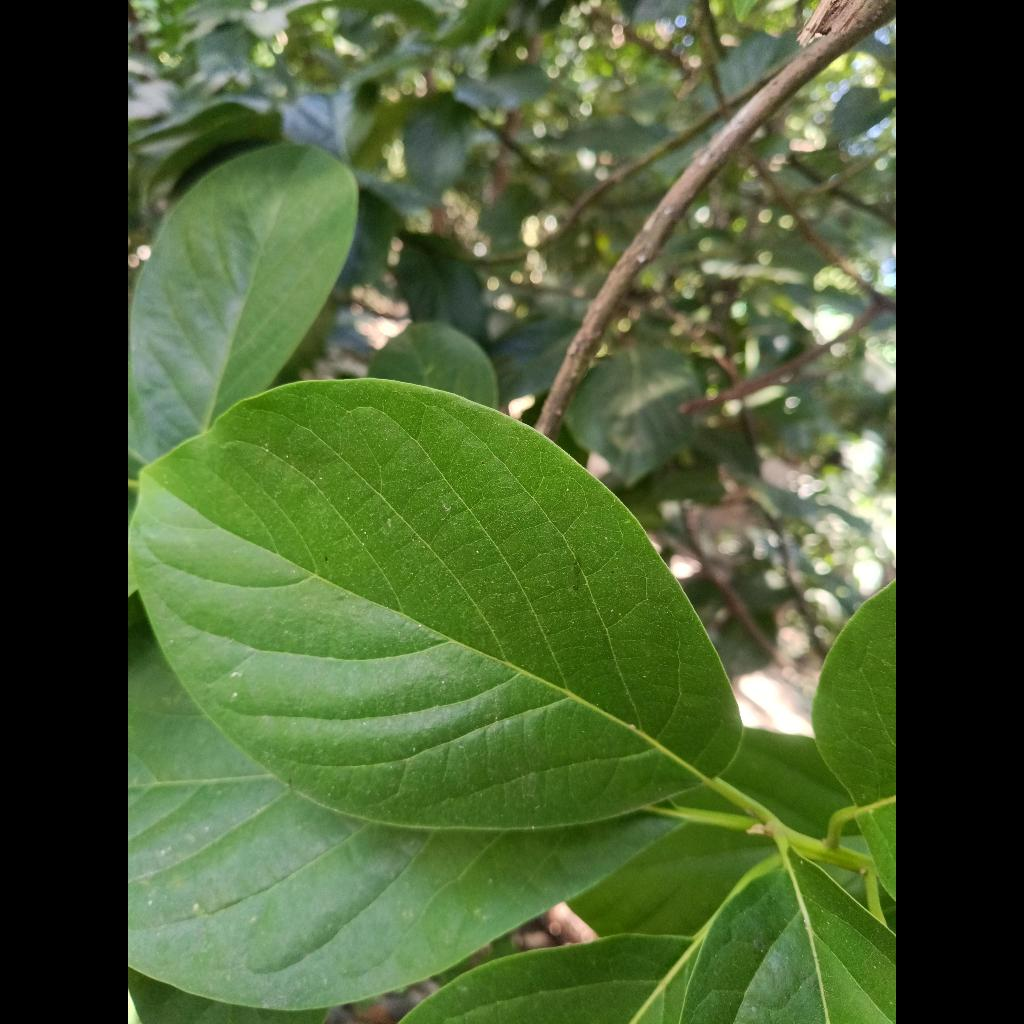hoja_sana: (131, 380, 741, 830)
